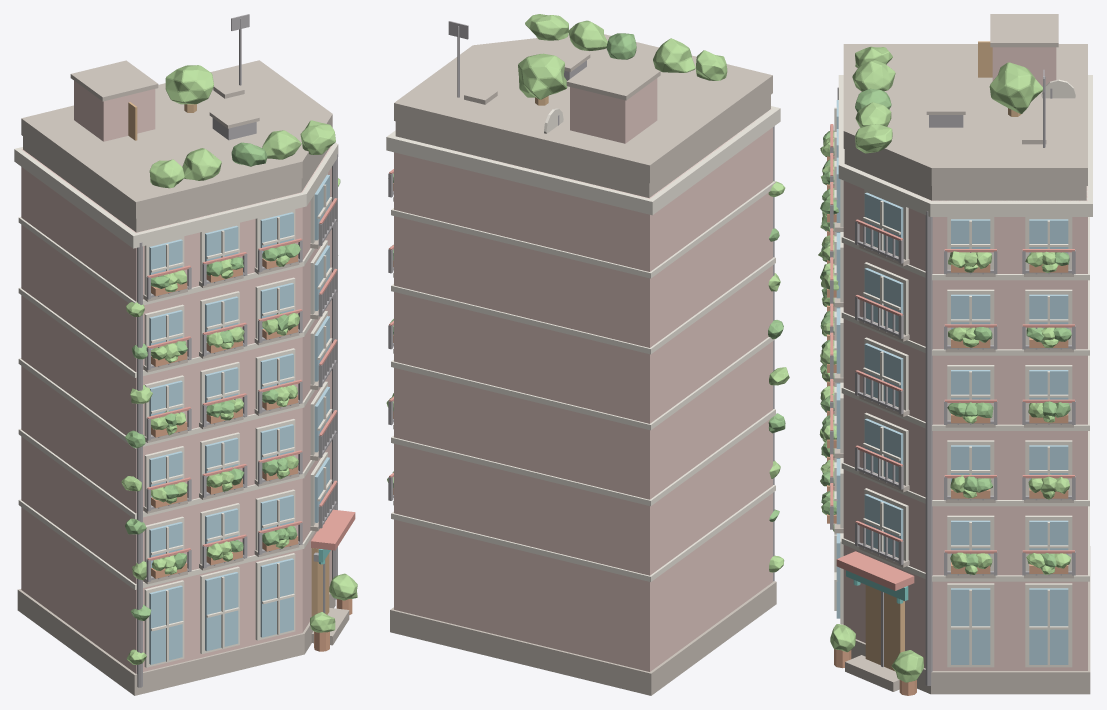
File: Building_Corner_D.fbx
The picture shows the model from 3 angles, left to right: view 1: azimuth 30°, elevation 25°; view 2: azimuth 150°, elevation 25°; view 3: azimuth 270°, elevation 25°; orthographic projection. The views are drawn at different scales.
Visible parts, largest first — view 1: Building_Corner_D, Building_Corner_D_Veg; view 2: Building_Corner_D, Building_Corner_D_Veg; view 3: Building_Corner_D, Building_Corner_D_Veg.
Boxes of the visible parts, x1,y1,x2,y2 form: Building_Corner_D: (14, 14, 355, 695); Building_Corner_D_Veg: (121, 65, 357, 664); Building_Corner_D: (386, 21, 780, 695); Building_Corner_D_Veg: (386, 14, 789, 572); Building_Corner_D: (830, 14, 1092, 694); Building_Corner_D_Veg: (818, 46, 1071, 695).
Bounding box in the file's own units: 6.84 × 13.5 × 5.62.
